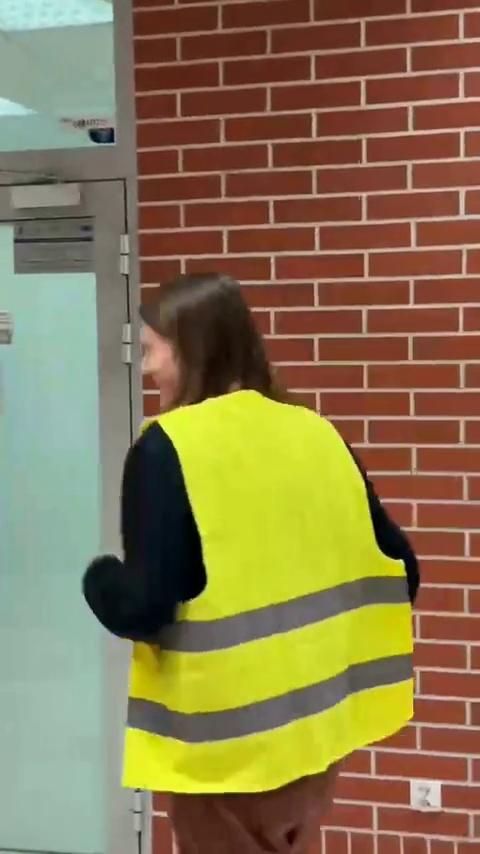vest: (90, 276, 417, 842)
